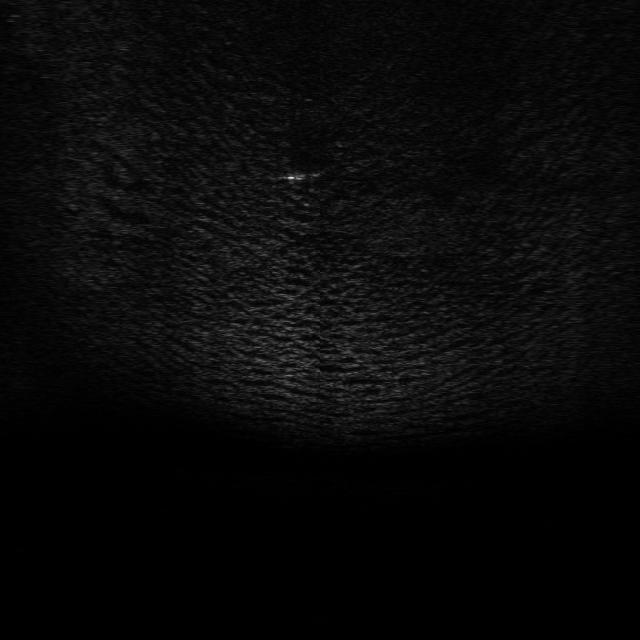plane: (280, 160, 336, 187)
